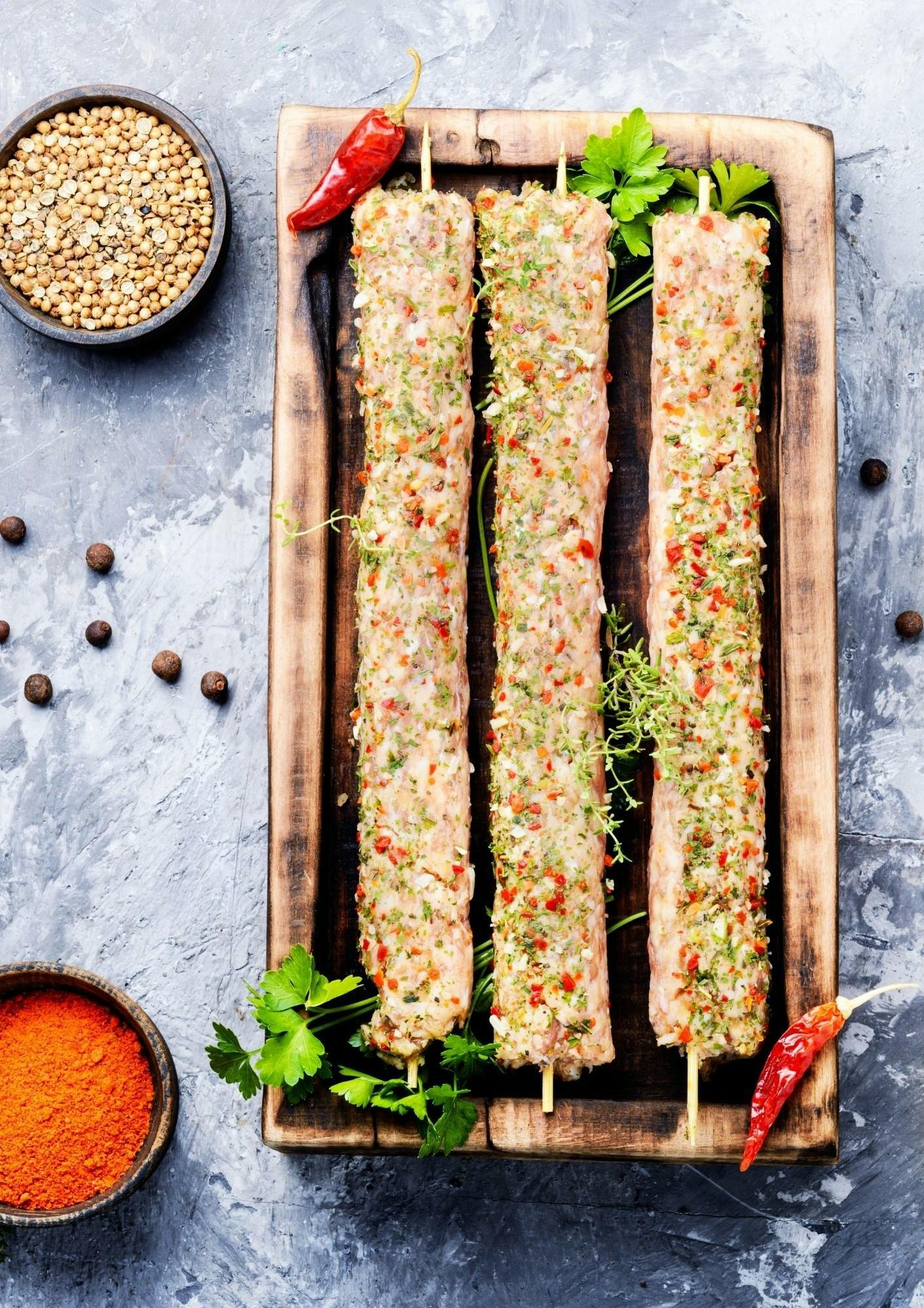Kebab: (477, 181, 612, 1072), (349, 178, 477, 1044), (648, 204, 775, 1062)
